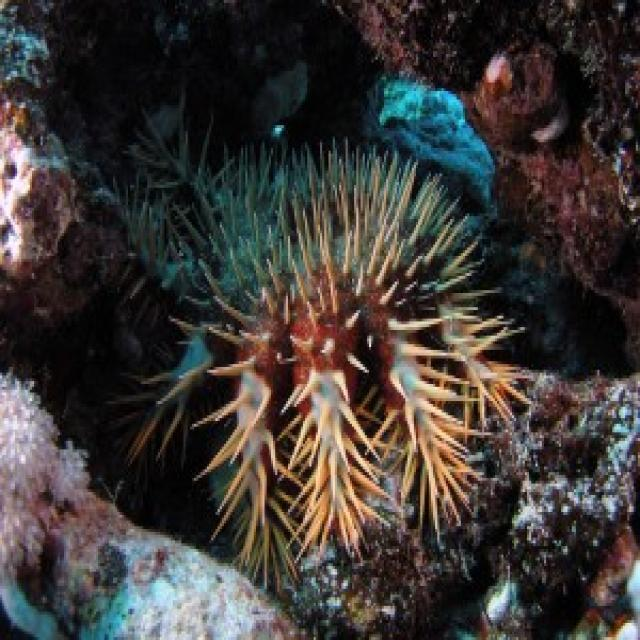Bleached: (1, 374, 300, 638)
Healthy: (116, 129, 528, 584)
